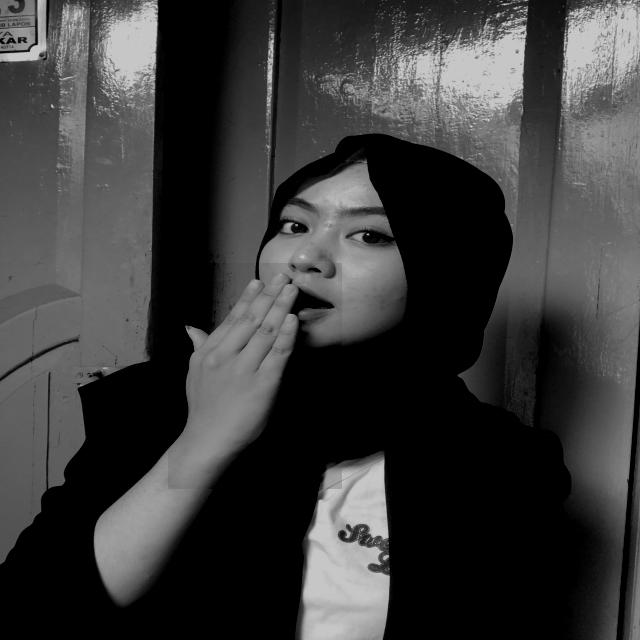ngantuk: (168, 263, 342, 489)
